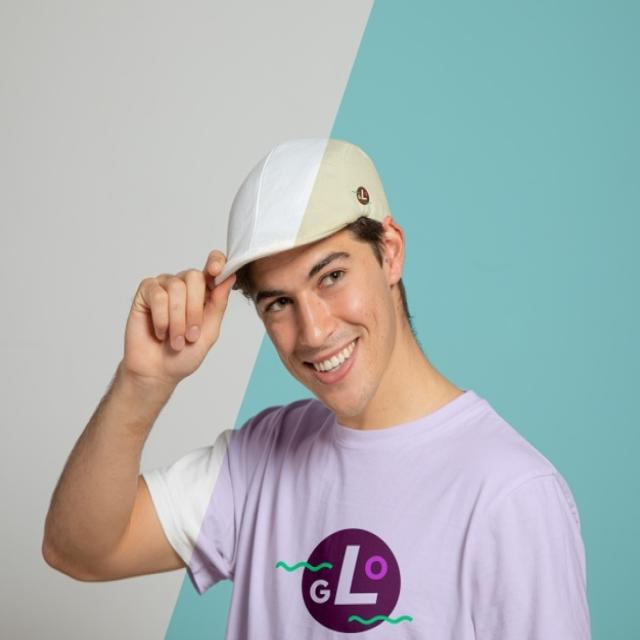cap: (208, 144, 408, 415)
